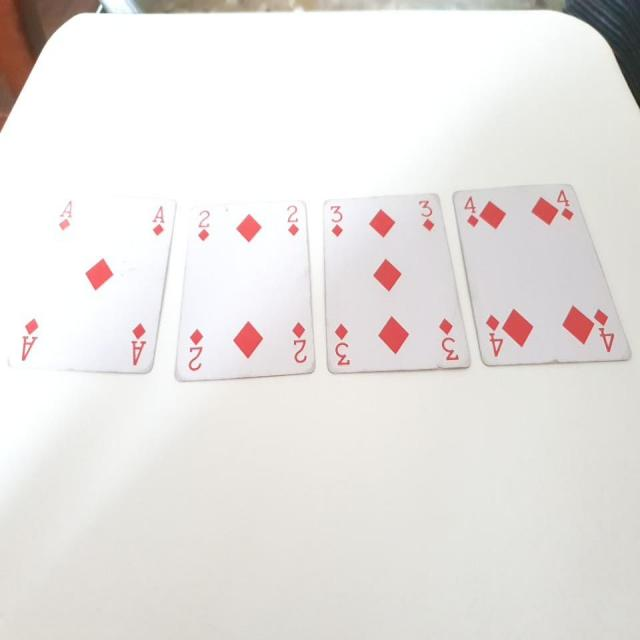2 Diamonds: (180, 202, 316, 381)
3 Diamonds: (321, 190, 473, 373)
4 Diamonds: (450, 174, 636, 373)
A Diamonds: (6, 193, 179, 382)
